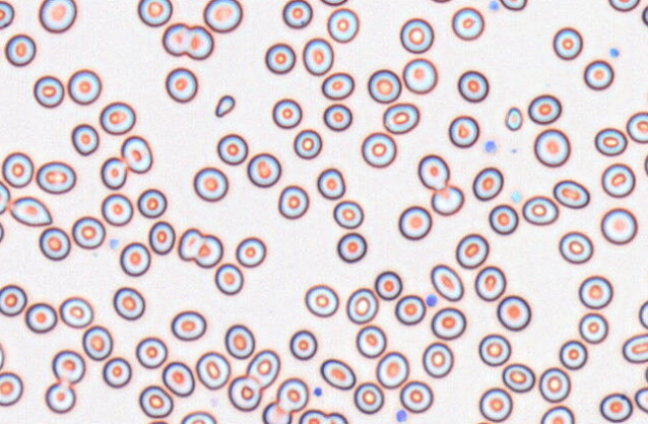PLT: (483, 139, 499, 155), (107, 238, 123, 252), (395, 409, 409, 424), (425, 295, 439, 307), (608, 45, 620, 59), (511, 189, 522, 203), (489, 0, 501, 12), (314, 387, 322, 397)
RBC: (161, 22, 213, 60), (178, 227, 223, 268), (600, 207, 638, 245), (533, 128, 570, 167), (195, 351, 230, 390), (36, 160, 76, 194), (9, 195, 52, 226), (246, 349, 280, 388), (496, 294, 531, 331), (402, 57, 437, 94), (361, 131, 396, 168), (193, 166, 228, 202), (600, 162, 635, 198), (375, 351, 409, 388), (67, 68, 101, 105), (38, 0, 76, 33), (430, 263, 463, 301), (203, 0, 242, 32), (246, 152, 281, 187), (227, 375, 261, 411), (430, 306, 466, 340), (99, 101, 135, 135), (399, 17, 433, 53), (345, 287, 378, 324), (120, 135, 152, 173), (51, 349, 85, 384), (478, 387, 512, 422), (138, 384, 173, 418), (398, 205, 432, 240), (558, 230, 593, 264), (578, 275, 613, 309), (367, 68, 401, 103), (161, 361, 194, 397), (164, 67, 197, 103), (455, 233, 488, 269), (326, 7, 359, 43), (417, 153, 449, 190), (1, 151, 33, 188), (382, 102, 419, 134), (302, 37, 333, 75), (71, 215, 105, 249), (304, 283, 338, 317), (275, 377, 308, 412), (319, 358, 355, 390), (538, 366, 570, 402), (474, 265, 506, 301), (422, 341, 453, 378), (399, 380, 433, 413), (112, 286, 145, 320), (451, 6, 484, 40), (38, 226, 70, 261), (277, 184, 309, 219), (224, 323, 255, 359), (170, 310, 206, 341), (521, 195, 558, 225), (478, 333, 511, 366), (430, 184, 464, 216), (101, 192, 133, 226), (59, 296, 93, 328), (82, 325, 113, 360), (119, 241, 150, 276), (552, 179, 589, 208), (32, 75, 64, 108), (4, 33, 36, 66), (457, 69, 489, 102), (501, 362, 535, 393), (355, 324, 386, 358), (599, 392, 633, 423), (527, 93, 561, 124), (472, 166, 503, 200), (552, 26, 583, 60), (44, 381, 76, 413), (135, 336, 167, 368), (216, 133, 248, 165), (353, 381, 384, 414), (24, 302, 57, 333), (448, 115, 479, 148), (264, 42, 295, 74), (336, 232, 367, 263), (235, 236, 266, 267), (394, 294, 425, 325), (271, 97, 302, 128), (583, 59, 614, 90), (102, 356, 132, 388), (488, 203, 518, 235), (578, 312, 608, 344), (214, 262, 243, 295), (321, 71, 354, 100), (594, 127, 627, 156), (137, 0, 172, 27), (332, 199, 363, 229), (316, 167, 345, 199), (148, 220, 175, 254), (137, 188, 167, 218), (558, 339, 587, 370), (293, 128, 322, 159), (71, 123, 99, 155), (100, 156, 127, 189), (0, 283, 27, 316), (289, 329, 317, 360), (374, 270, 402, 300), (322, 103, 352, 131), (282, 0, 312, 28), (622, 332, 648, 363), (0, 371, 23, 406), (261, 401, 292, 424), (626, 111, 648, 143), (539, 405, 574, 424), (179, 410, 217, 424), (298, 409, 326, 424), (607, 0, 641, 12), (0, 0, 14, 29), (634, 386, 648, 414), (0, 179, 10, 215), (638, 298, 648, 330), (324, 411, 348, 424), (498, 0, 527, 10), (318, 0, 349, 6), (641, 2, 648, 27), (643, 148, 648, 180), (145, 419, 171, 424), (0, 339, 4, 371), (0, 218, 4, 246), (644, 361, 648, 386), (469, 421, 499, 424), (426, 0, 456, 3), (645, 258, 648, 286), (646, 84, 648, 108)
Schistocyte: (504, 107, 524, 132), (215, 95, 236, 118)
